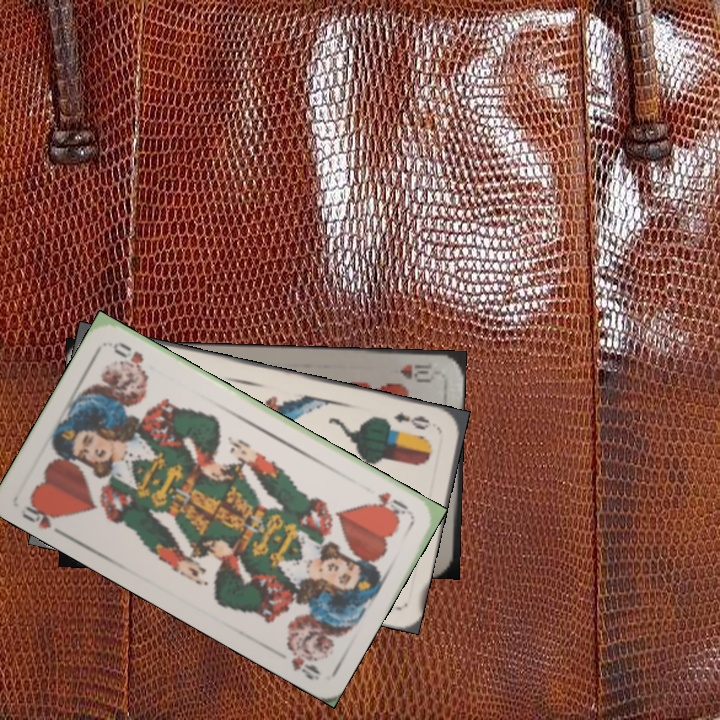EO: (390, 408, 434, 433)
H10: (396, 360, 439, 384)
HO: (17, 493, 69, 540), (370, 488, 411, 521)
